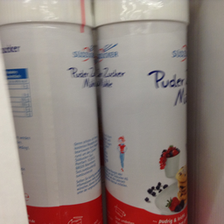sugar: (1, 1, 102, 224), (93, 1, 190, 224)
